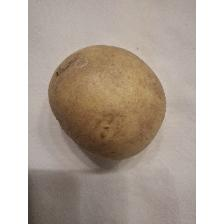Kartoffel: (46, 42, 168, 162)
